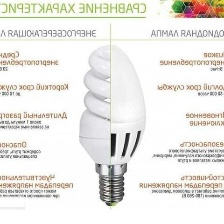light_bulb: (75, 43, 146, 211)
